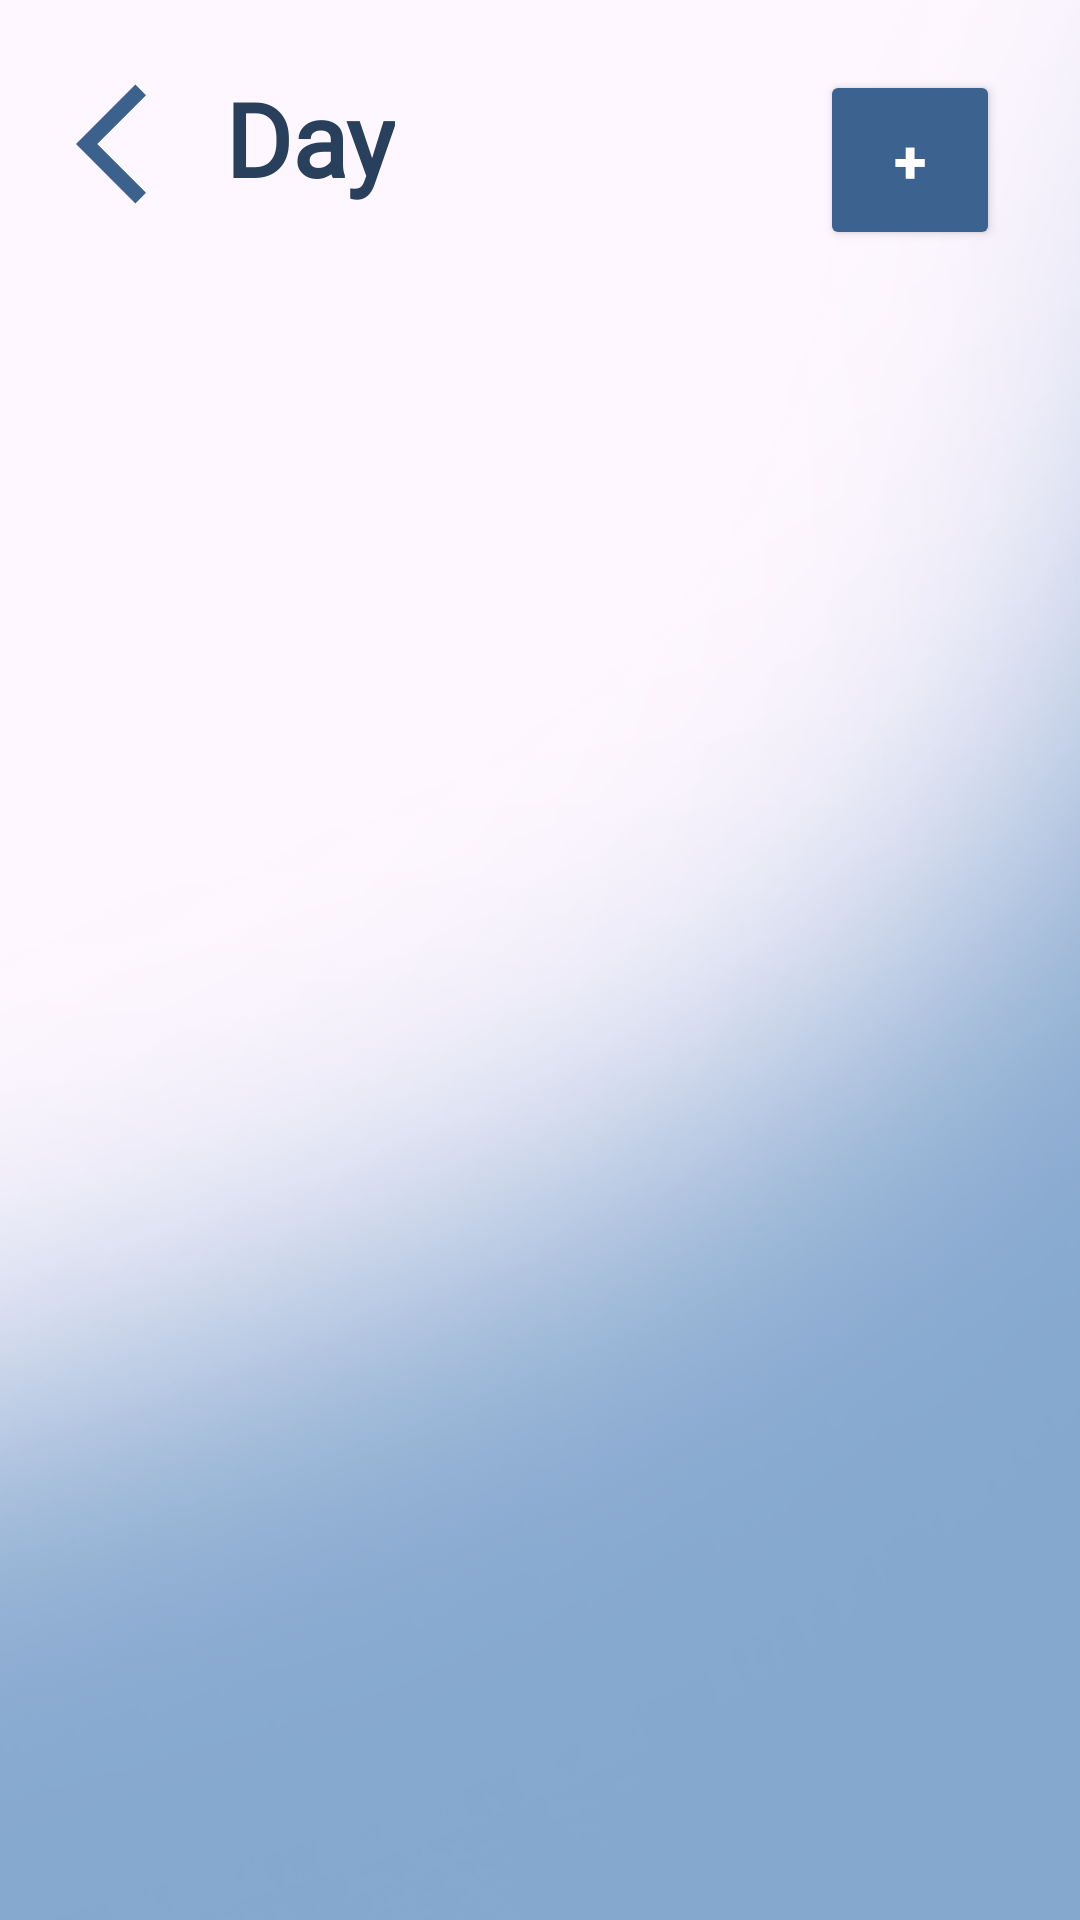

Icon bounding boxes for this 1080x1920 phone screenshot, format (x1, y1, x2, y2):
arrow back: (76, 84, 146, 204)
